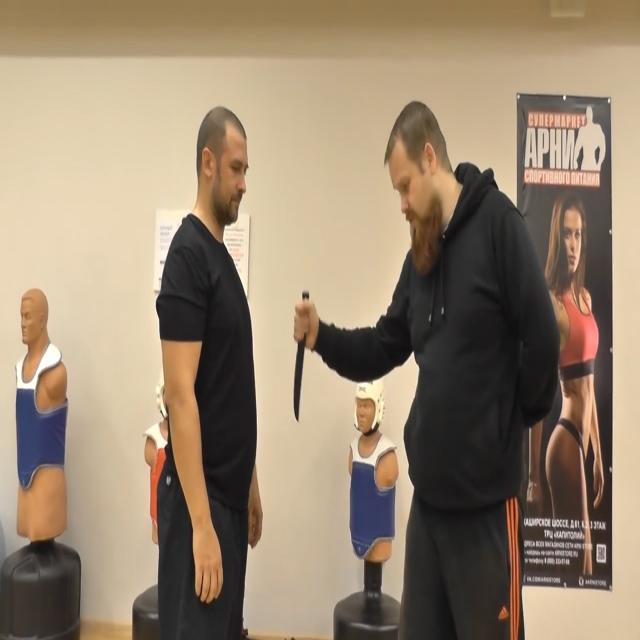knife: (290, 341, 308, 443)
